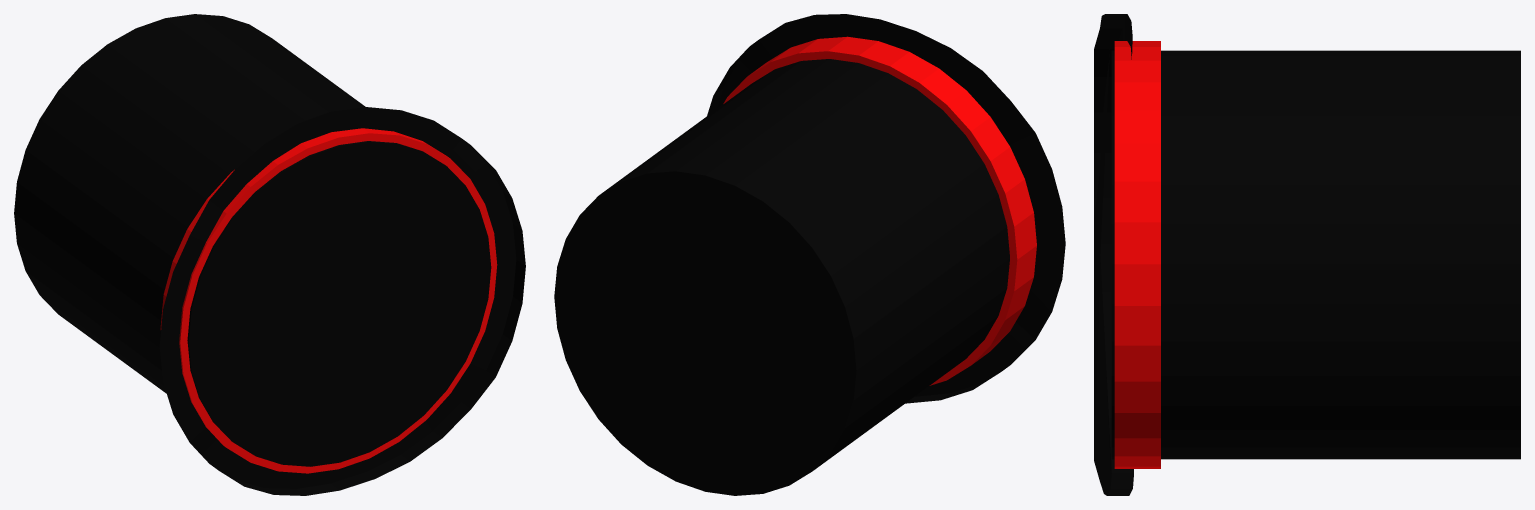
Rendered from item-top-hat.glb.
3 views of the same model, side by side, from view 1: azimuth 30°, elevation 25°; view 2: azimuth 150°, elevation 25°; view 3: azimuth 270°, elevation 25° (orthographic). The views are drawn at different scales.
Size of the model in its own units: 0.0236 by 0.0235 by 0.0209.
2 materials, 1 textured.
